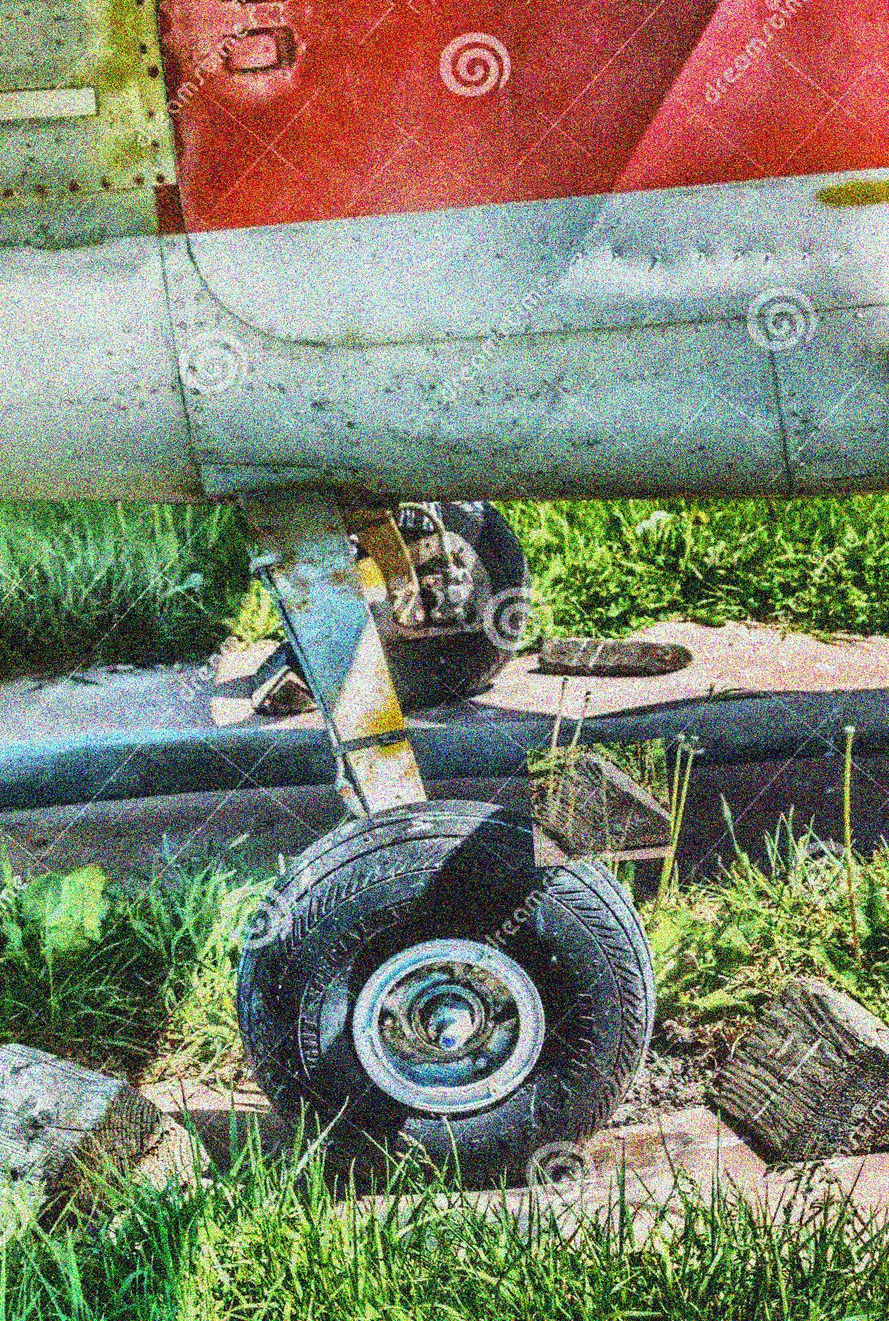chock: (0, 1007, 217, 1250), (692, 949, 889, 1184), (526, 738, 674, 867), (242, 624, 321, 724)
wheel: (219, 788, 663, 1196), (366, 493, 534, 703)
